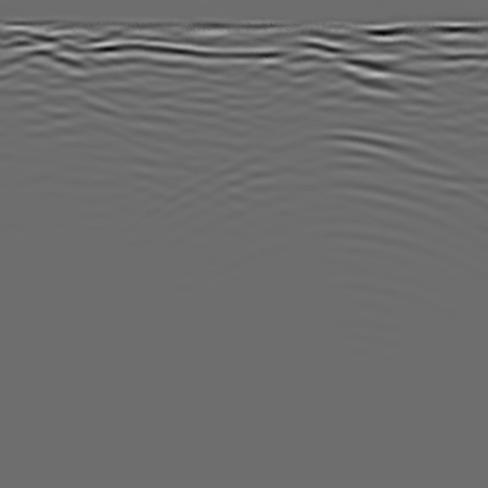hyperbola: (213, 115, 470, 249)
